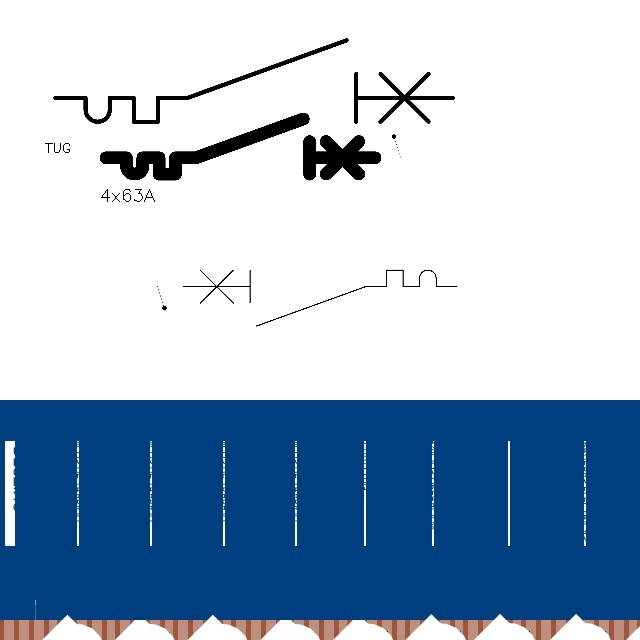interruptor_termomagnetico: (45, 30, 463, 132), (176, 263, 463, 333), (99, 112, 382, 181)
